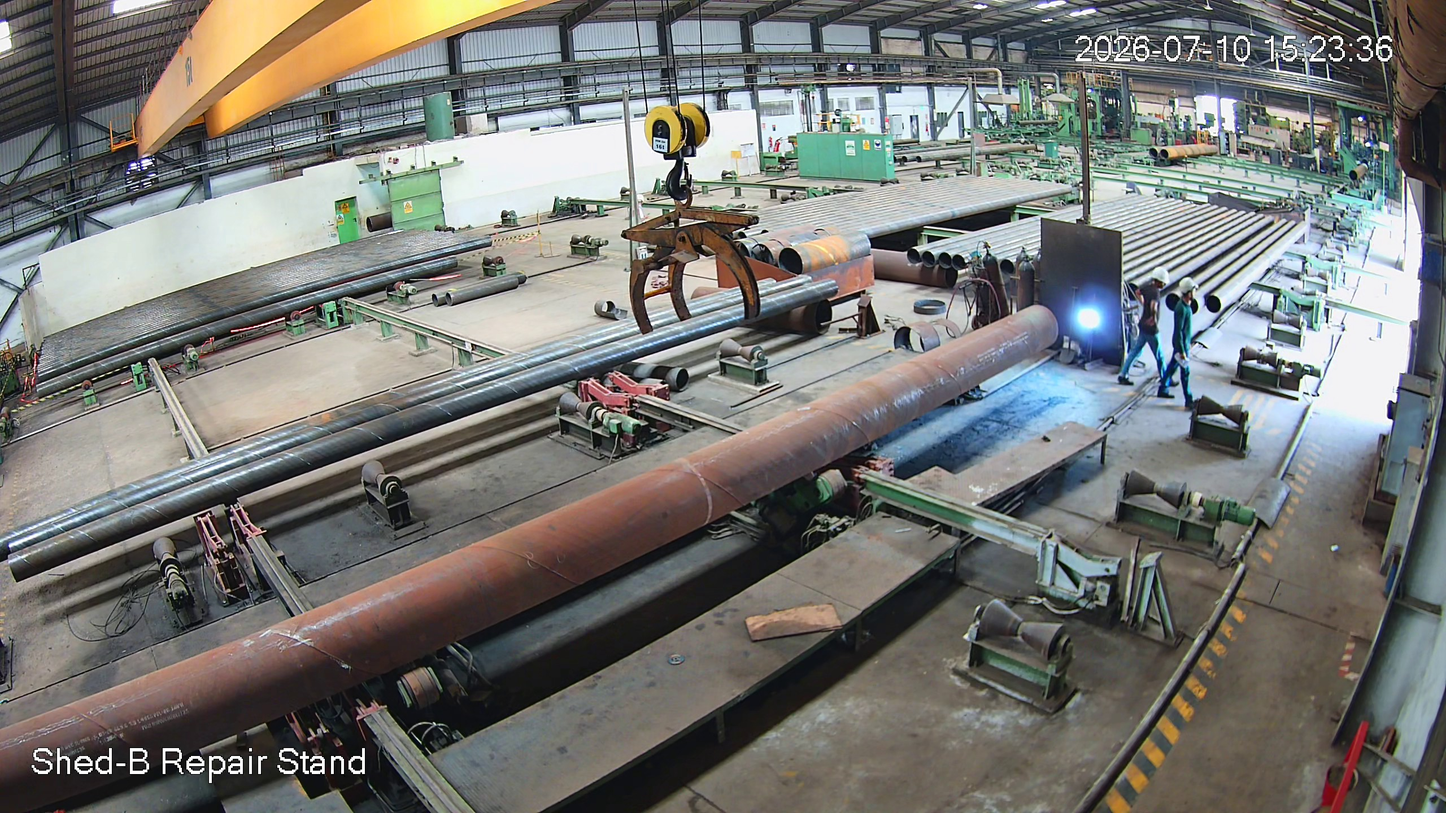Helmet: (1176, 274, 1208, 313), (1149, 263, 1174, 299)
Person: (1125, 267, 1180, 403), (1163, 276, 1206, 409)
